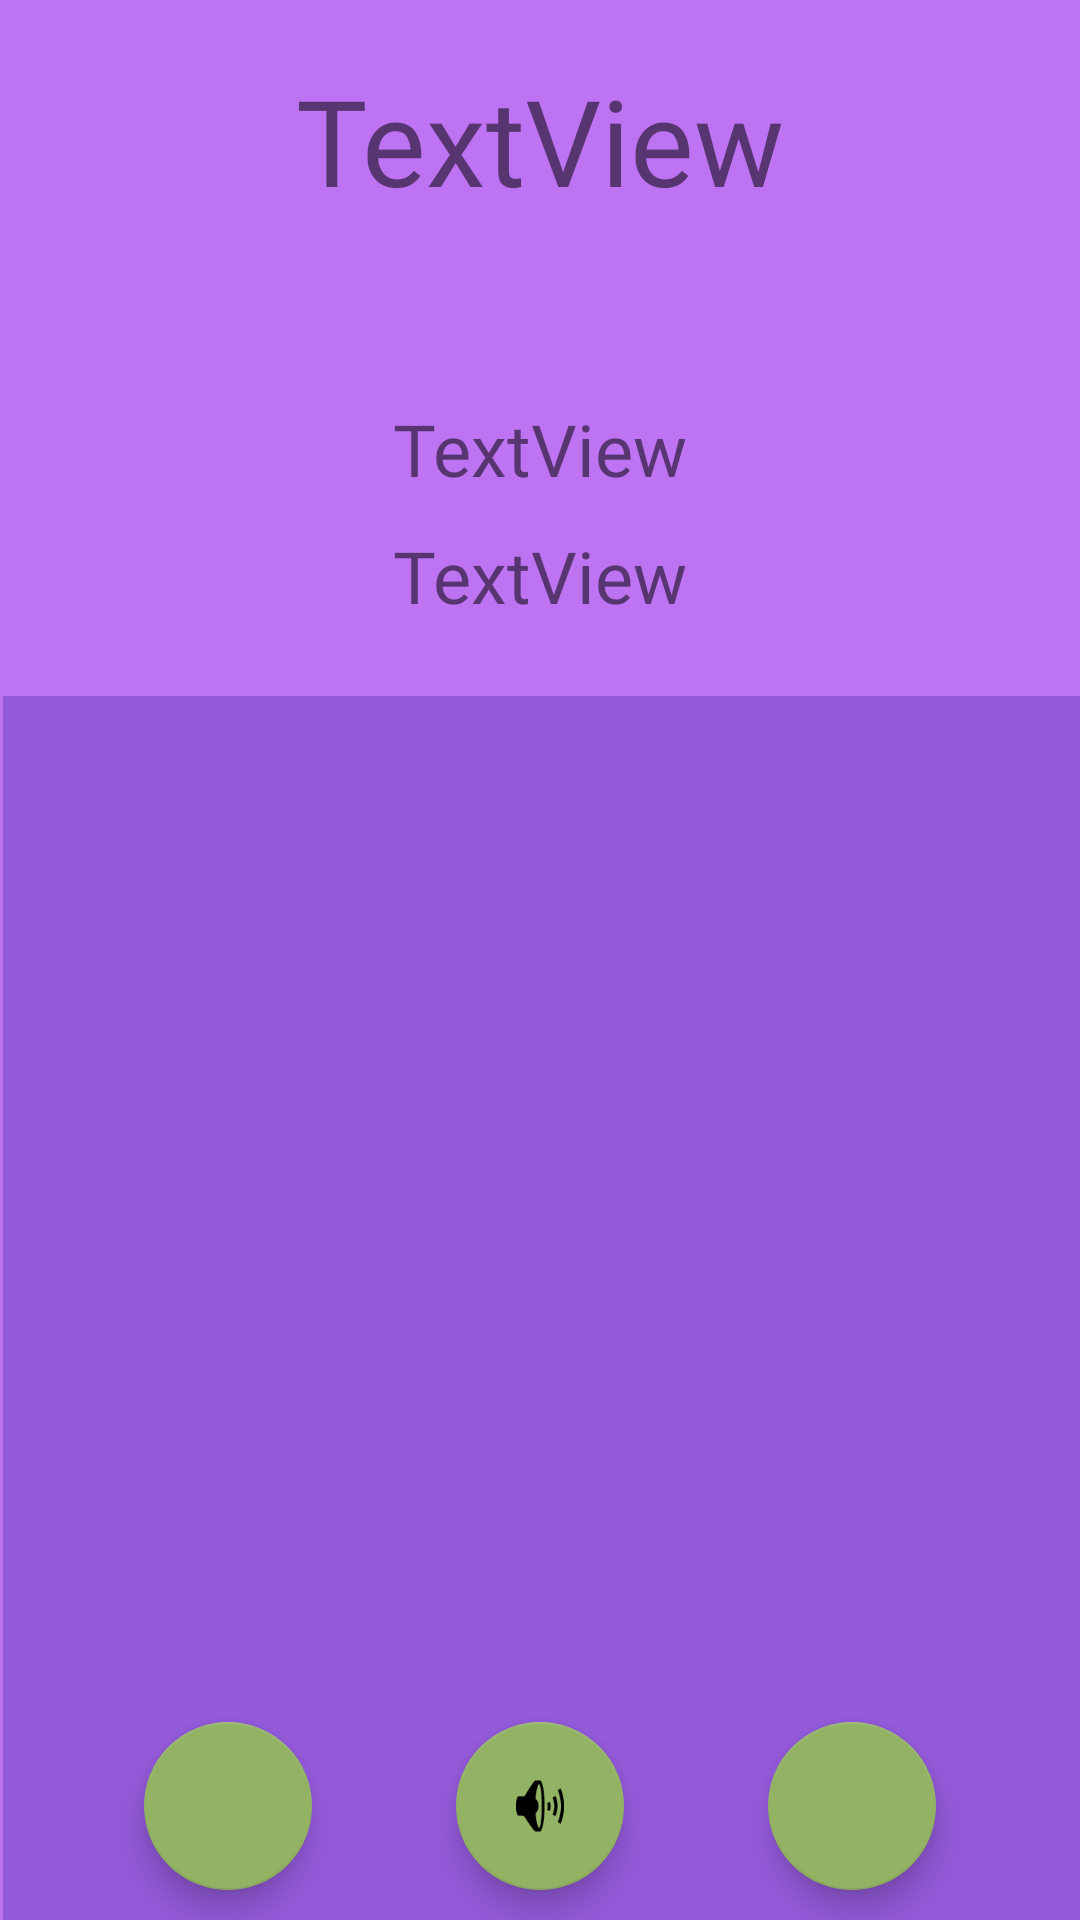

Screen size 1080x1920. Icon name, then its box in pixels as (x1, y1, x2, y2):
lock silent mode off: (456, 1722, 624, 1890)
